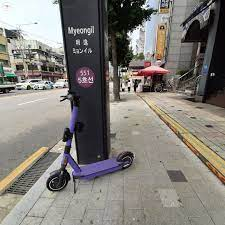kick_board: (47, 91, 134, 190)
kick_body: (79, 159, 118, 180)
kick_handler: (59, 92, 79, 105)
kick_neck: (59, 107, 78, 167)
kick_wheel: (47, 169, 68, 191), (119, 152, 135, 168)
